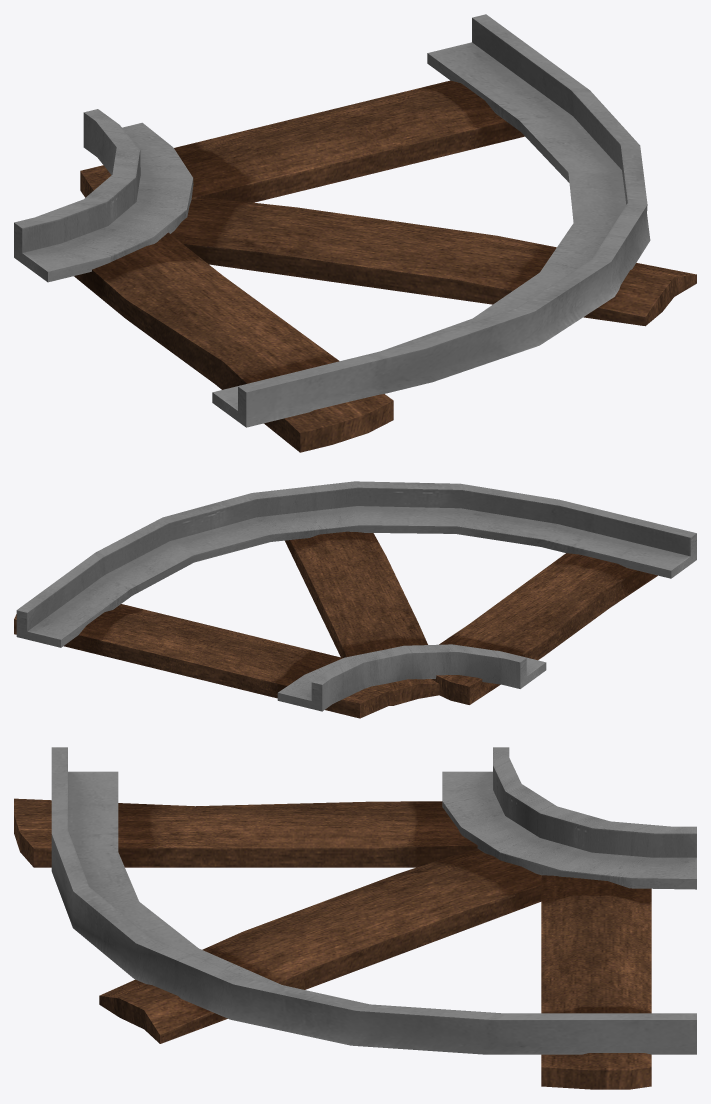
File: dollyrailcorner_000.fbx
The picture shows the model from 3 angles, top to bottom: view 1: azimuth 30°, elevation 25°; view 2: azimuth 150°, elevation 25°; view 3: azimuth 270°, elevation 25°; orthographic projection. The views are drawn at different scales.
Visible parts, largest first — view 1: body.002; view 2: body.002; view 3: body.002.
Part boxes in pixels (x1=…): body.002: x1=14, y1=14, x2=696, y2=452; body.002: x1=14, y1=481, x2=696, y2=718; body.002: x1=14, y1=747, x2=696, y2=1089.
Bounding box in the file's own units: 164 × 14.26 × 164.
Materials: 1 (1 with a texture image).
